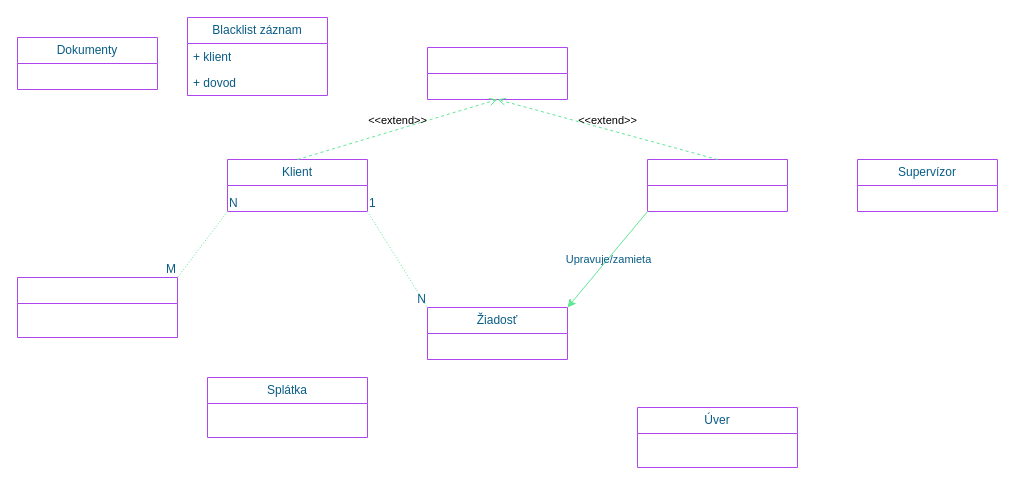
Some shapes in this 1015 by 485 pixel diagram are drawn without their labels. Each missing label, with the box of its shape:
Osoba: (426, 46, 568, 100)
Zamestnanec: (646, 158, 788, 212)
Účet: (16, 276, 178, 338)
